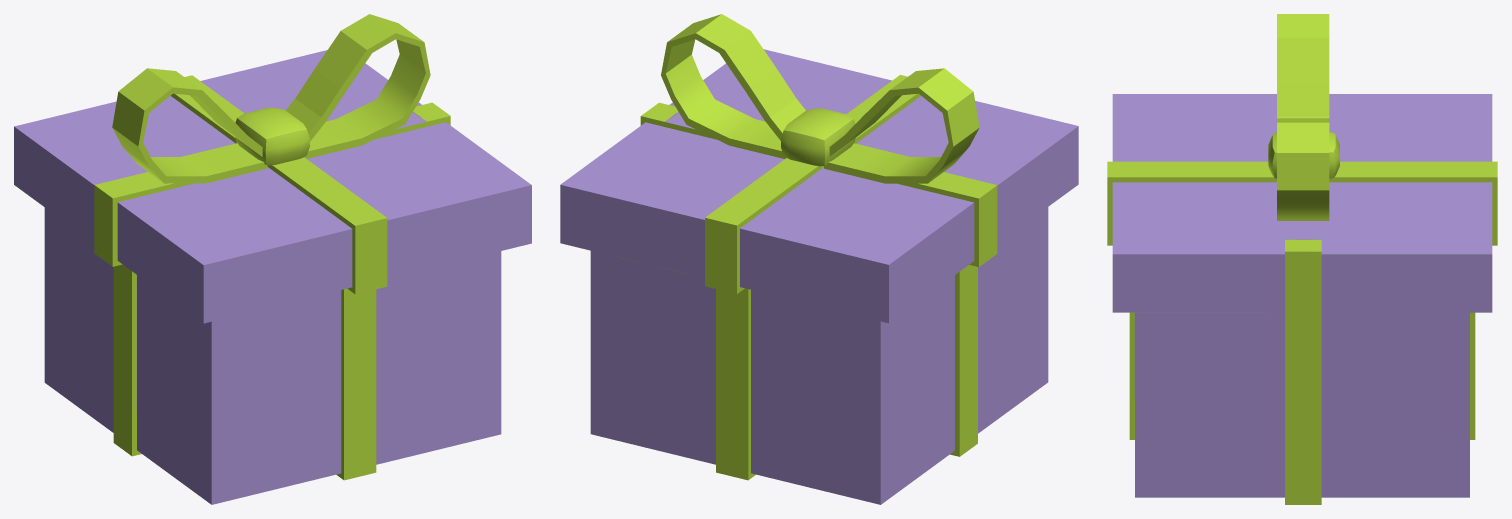
File: presentbox_3.fbx
The picture shows the model from 3 angles, left to right: view 1: azimuth 30°, elevation 25°; view 2: azimuth 150°, elevation 25°; view 3: azimuth 270°, elevation 25°; orthographic projection.
Parts seen in each view (by area): view 1: Box001; view 2: Box001; view 3: Box001.
Part boxes in pixels (x1,y1,x2,y2): Box001: [14, 14, 531, 504]; Box001: [560, 14, 1078, 504]; Box001: [1107, 14, 1497, 504].
Bounding box in the file's own units: 70 × 71.8 × 70.
